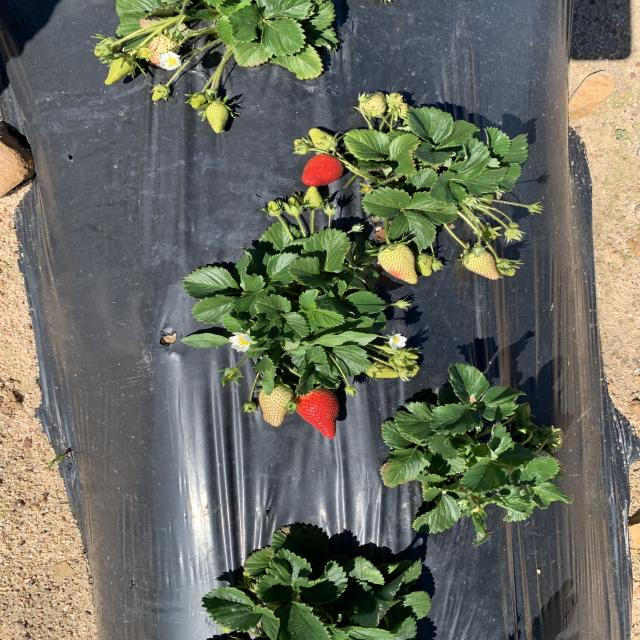unripe: (292, 386, 341, 441), (302, 154, 346, 186)
